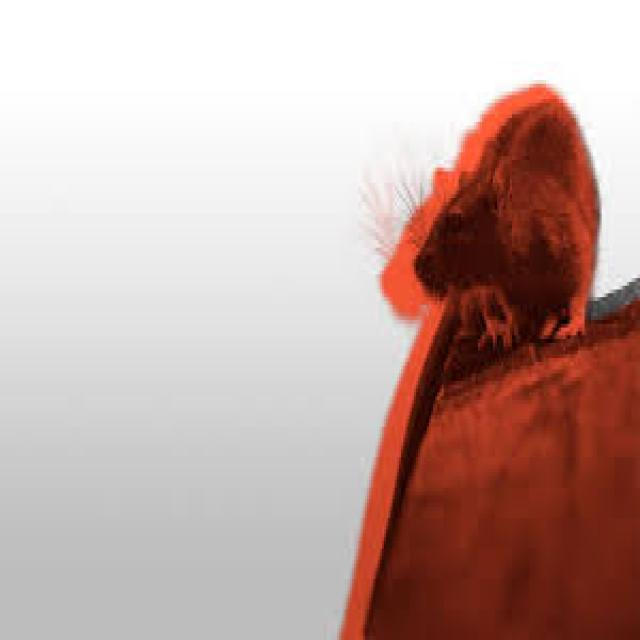rat: (412, 84, 602, 354)
